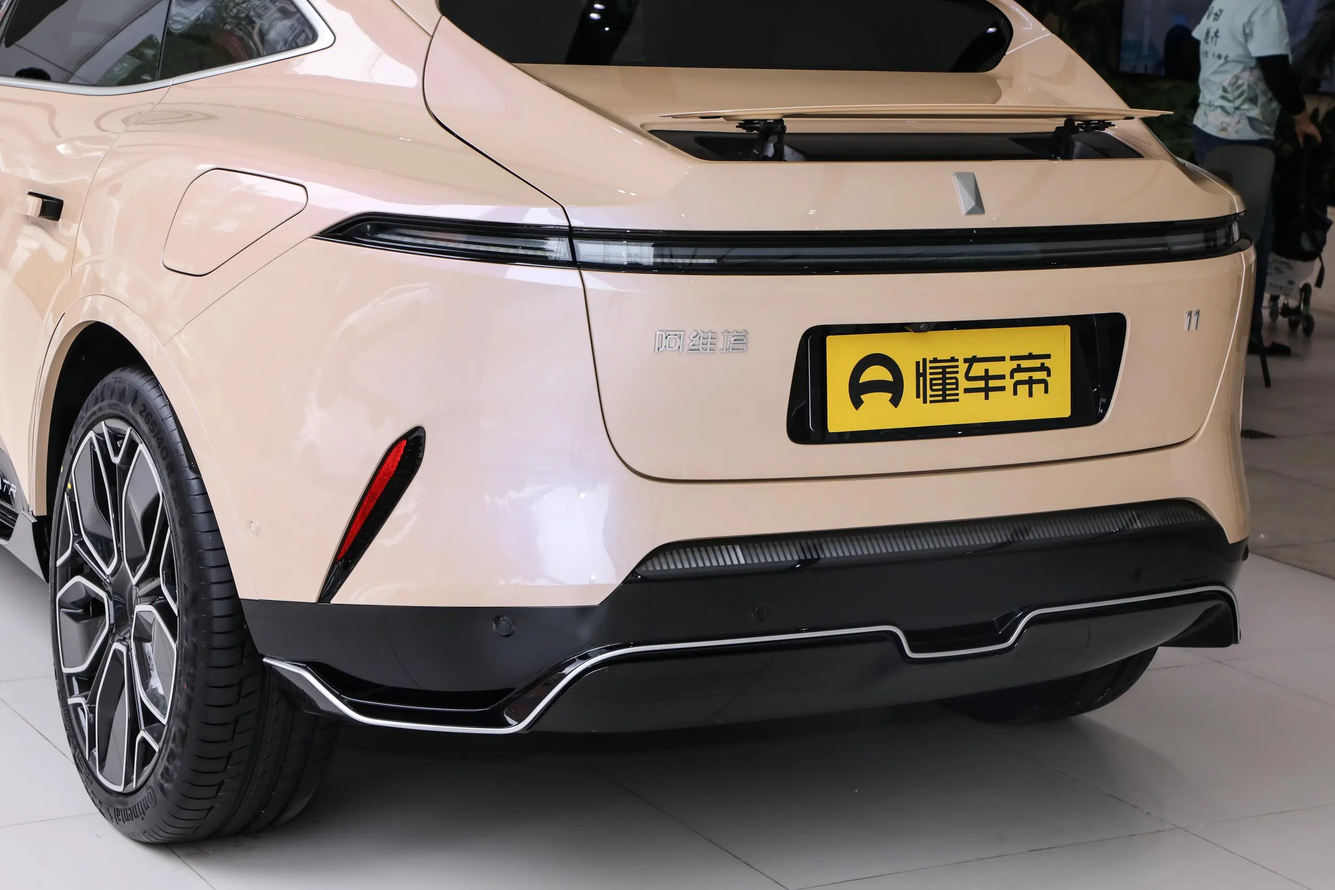AVATR: (954, 171, 985, 215)
